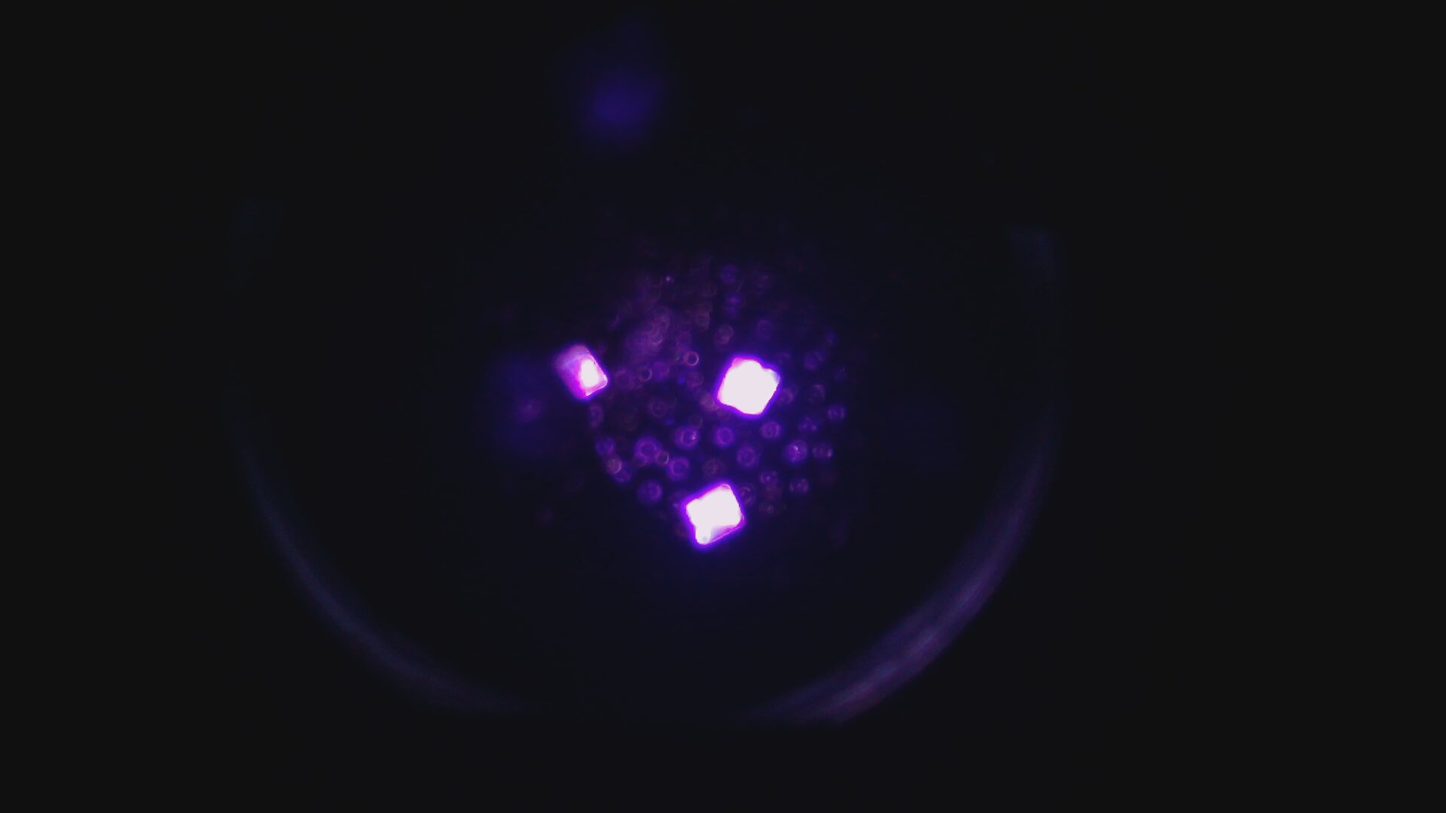plastic: (714, 351, 786, 421), (680, 480, 750, 548), (550, 339, 612, 405)
